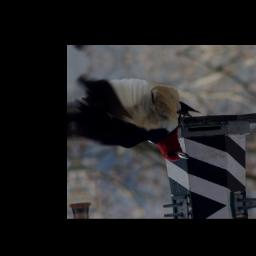Woodpecker: (69, 68, 202, 175)
